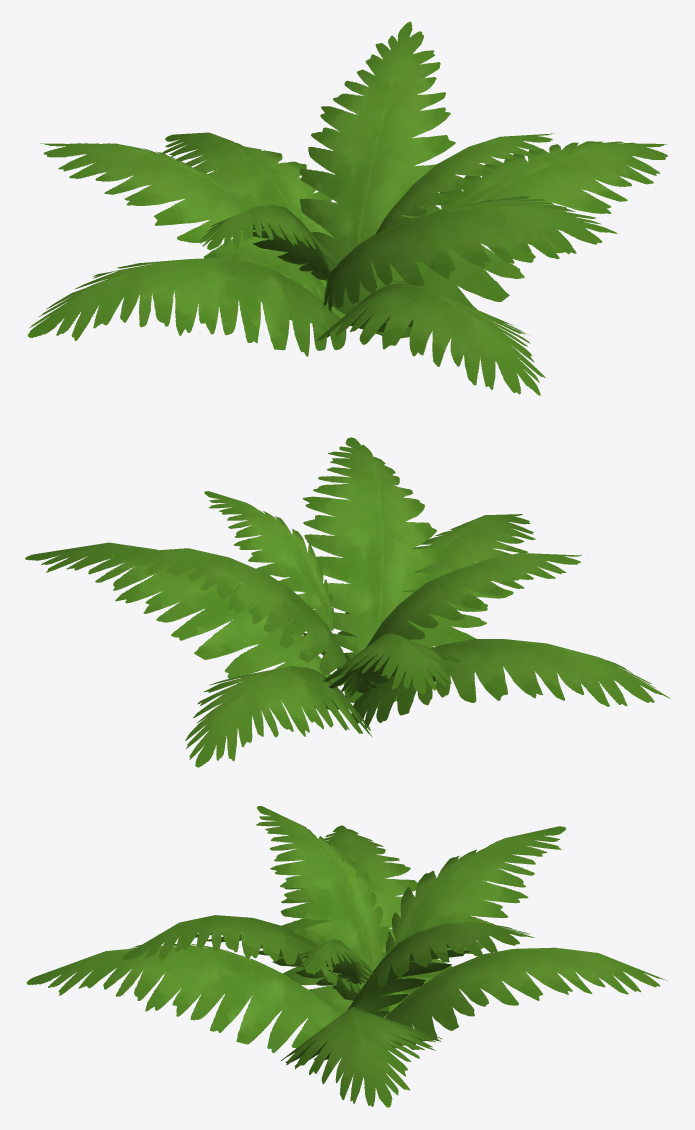
Rendered from Fern_1.glb.
The picture shows the model from 3 angles, top to bottom: view 1: azimuth 30°, elevation 25°; view 2: azimuth 150°, elevation 25°; view 3: azimuth 270°, elevation 25°; orthographic projection. The views are drawn at different scales.
Parts seen in each view (by area): view 1: Fern_1; view 2: Fern_1; view 3: Fern_1.
Part boxes in pixels (x1,y1,x2,y2): Fern_1: [27, 21, 667, 395]; Fern_1: [25, 437, 670, 767]; Fern_1: [26, 806, 667, 1107].
Bounding box in the file's own units: 2.83 × 0.8402 × 2.65.
Materials: 1 (1 with a texture image).
